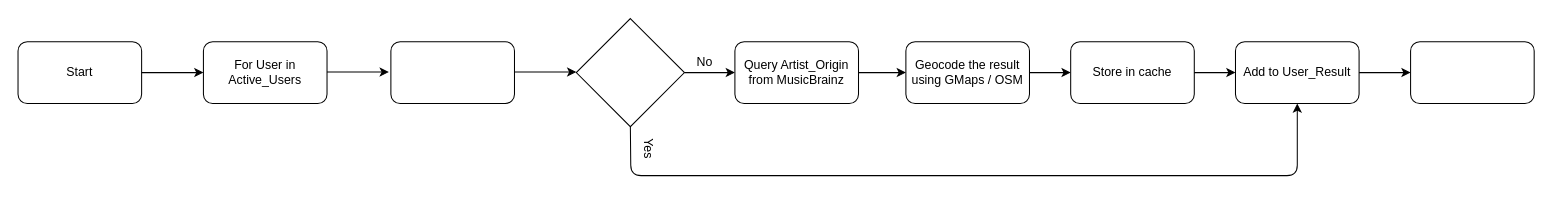
This 1552x202 diagram has some shape labels left out. Here are the shapes that lost their labels. From the top down, the centre of each, then its label:
the point at 452,72: For Artist in unique(Listen_History)
the point at 629,72: Check if artist present in cache
the point at 1472,72: End
